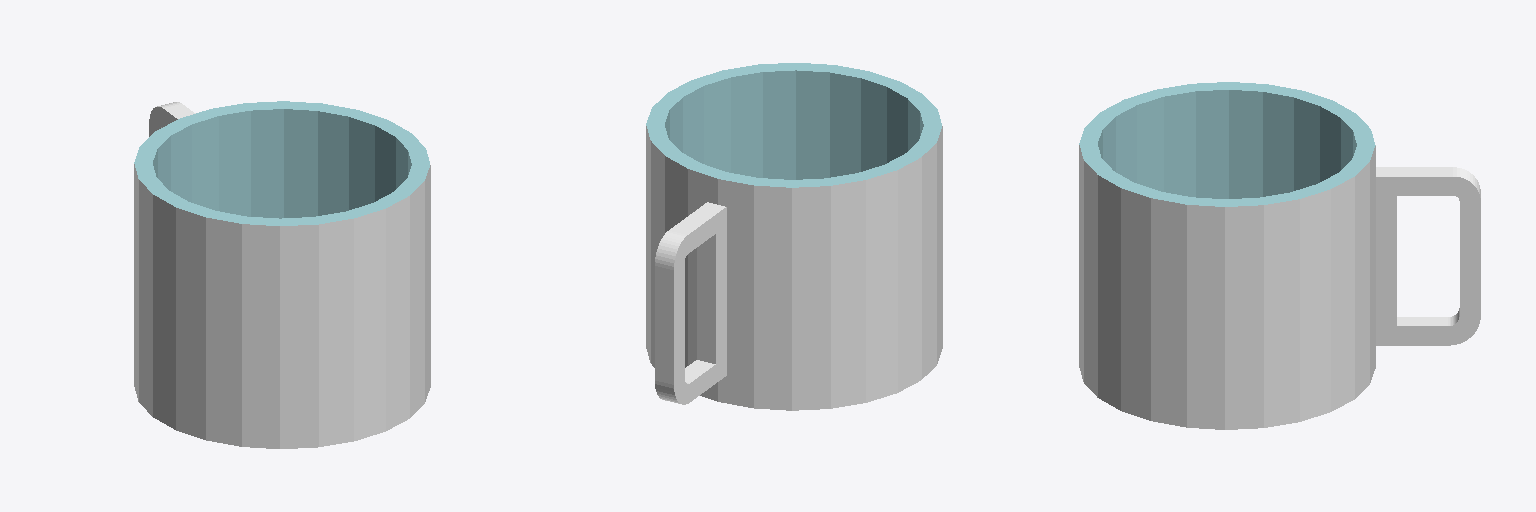
3 renders of one model, left to right at view 1: azimuth 30°, elevation 25°; view 2: azimuth 150°, elevation 25°; view 3: azimuth 270°, elevation 25°, orthographic.
Parts seen in each view (by area): view 1: model_normalized.017; view 2: model_normalized.017; view 3: model_normalized.017.
Part boxes in pixels (x1,y1,x2,y2): model_normalized.017: (134,101,430,448); model_normalized.017: (646,63,942,410); model_normalized.017: (1079,82,1480,429).
Size of the model in its own units: 0.5326 by 0.4421 by 0.7217.